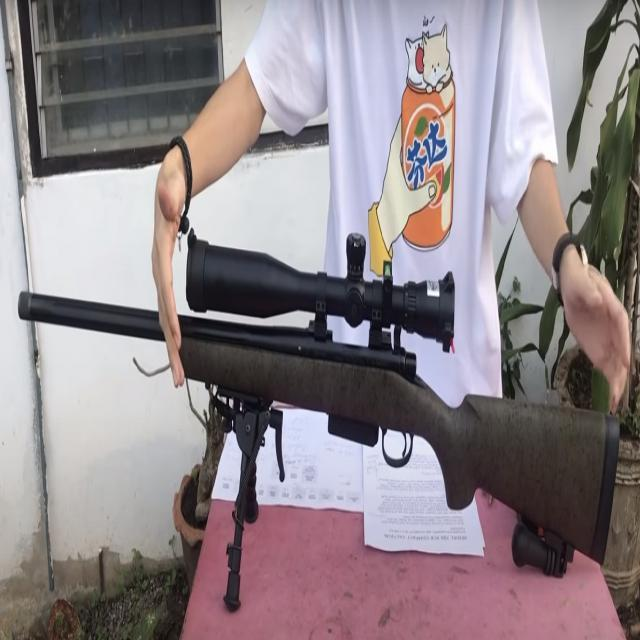rifle: (12, 212, 622, 618)
